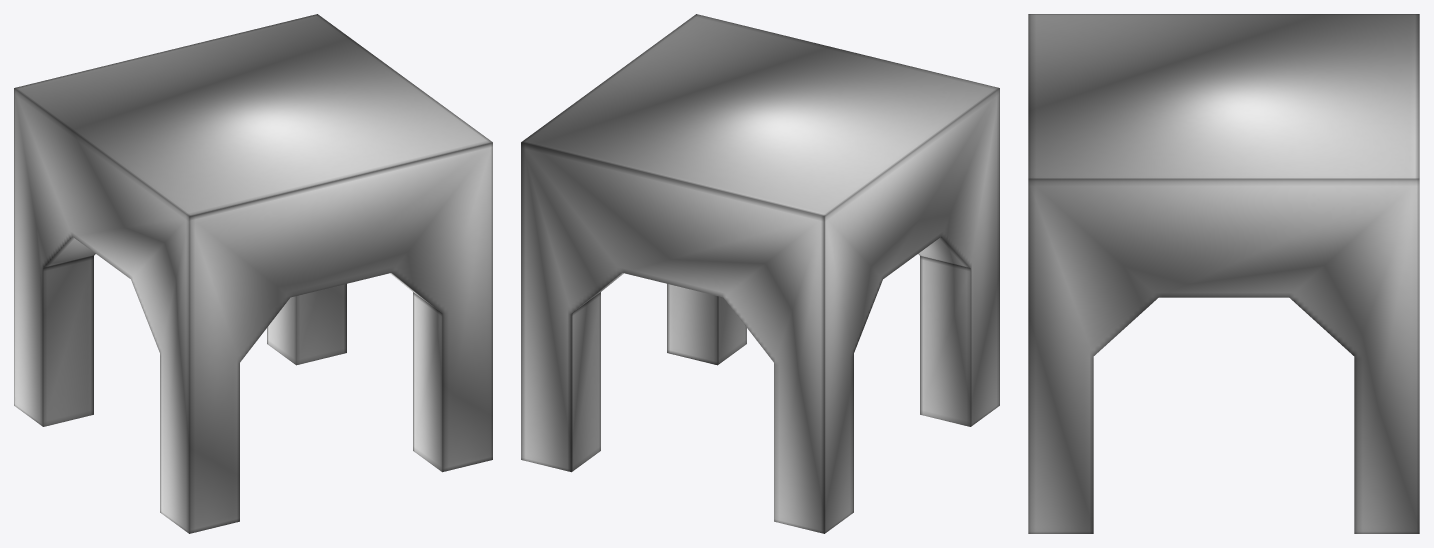
File: Tunnel-03.fbx
3 views of the same model, side by side, from view 1: azimuth 30°, elevation 25°; view 2: azimuth 150°, elevation 25°; view 3: azimuth 270°, elevation 25° (orthographic). The views are drawn at different scales.
Visible parts, largest first — view 1: Tunnel-03; view 2: Tunnel-03; view 3: Tunnel-03.
Part boxes in pixels (box(x1,y1,x2,y2)): Tunnel-03: box(14, 14, 492, 533); Tunnel-03: box(521, 14, 999, 533); Tunnel-03: box(1028, 14, 1419, 533).
Size of the model in its own units: 1 by 1 by 1.
